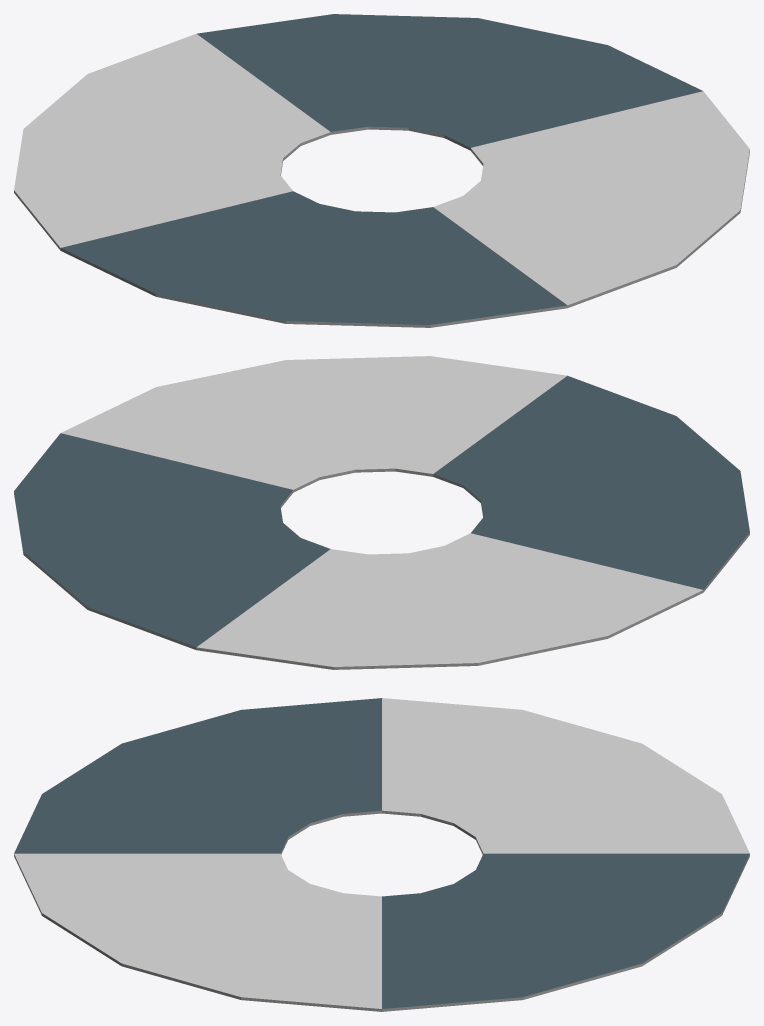
3 views of the same model, one above another, from view 1: azimuth 30°, elevation 25°; view 2: azimuth 150°, elevation 25°; view 3: azimuth 270°, elevation 25° (orthographic).
Parts seen in each view (by area): view 1: world; view 2: world; view 3: world.
Boxes of the visible parts, bbox=[...] form: world: bbox=[14, 14, 749, 327]; world: bbox=[14, 356, 749, 669]; world: bbox=[14, 698, 749, 1011].
Size of the model in its own units: 0.0232 by 0.0001 by 0.0232.
